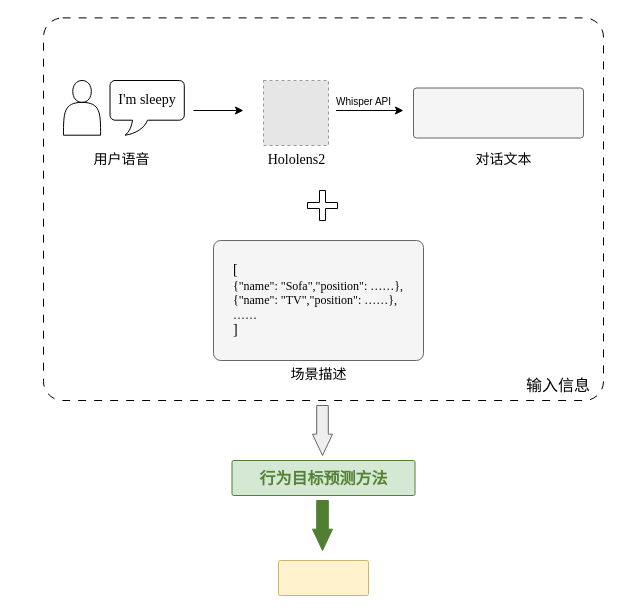
The diagram is 621 pixels wide and 613 high, and some of its shapes have lost their labels. Grey dashed boxes stand in for pictures. Each missing label, with the centre of its shape:
Dialogue history：I'm sleepy: the point at 498,112
预测目标: the point at 323,578
